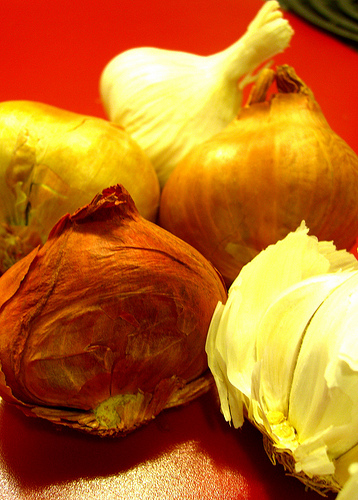onion: (0, 182, 227, 435)
